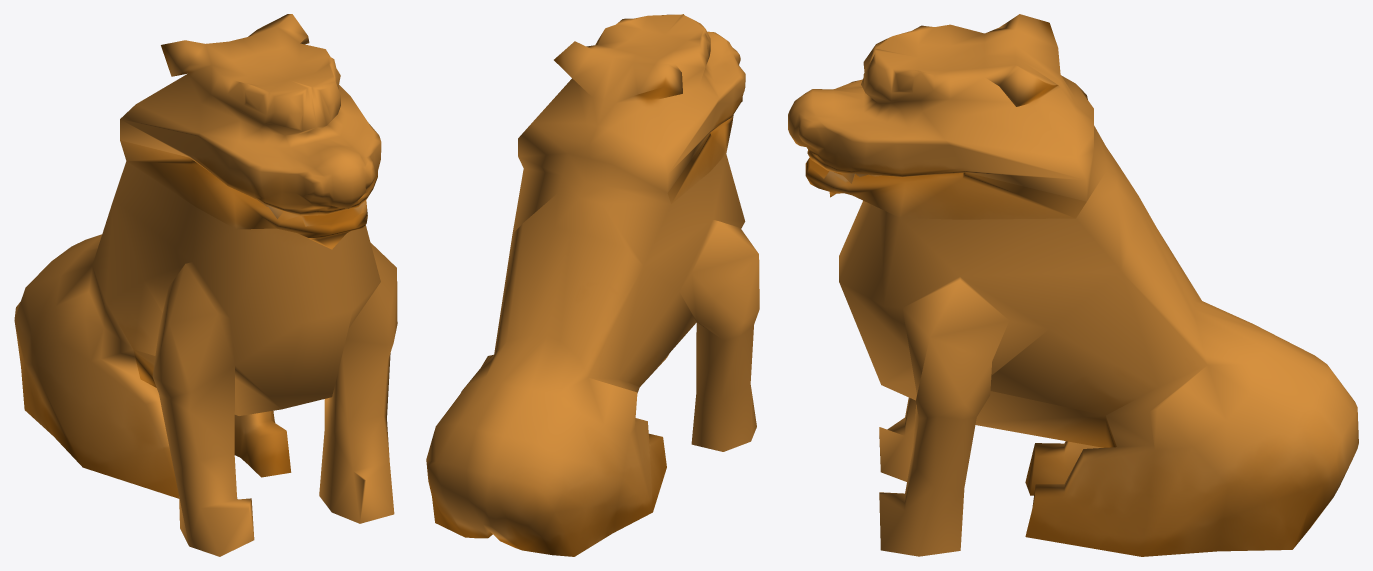
The model's file is ObjS_Statue.fbx.
3 views of the same model, side by side, from view 1: azimuth 30°, elevation 25°; view 2: azimuth 150°, elevation 25°; view 3: azimuth 270°, elevation 25° (orthographic). The views are drawn at different scales.
Visible parts, largest first — view 1: polySurface28; view 2: polySurface28; view 3: polySurface28.
Part boxes in pixels (left/top/right/bottom): polySurface28: left=14, top=14, right=397, bottom=556; polySurface28: left=426, top=14, right=759, bottom=556; polySurface28: left=788, top=14, right=1358, bottom=556.
Size of the model in its own units: 245 by 458 by 505.
Materials: 1 (1 with a texture image).
